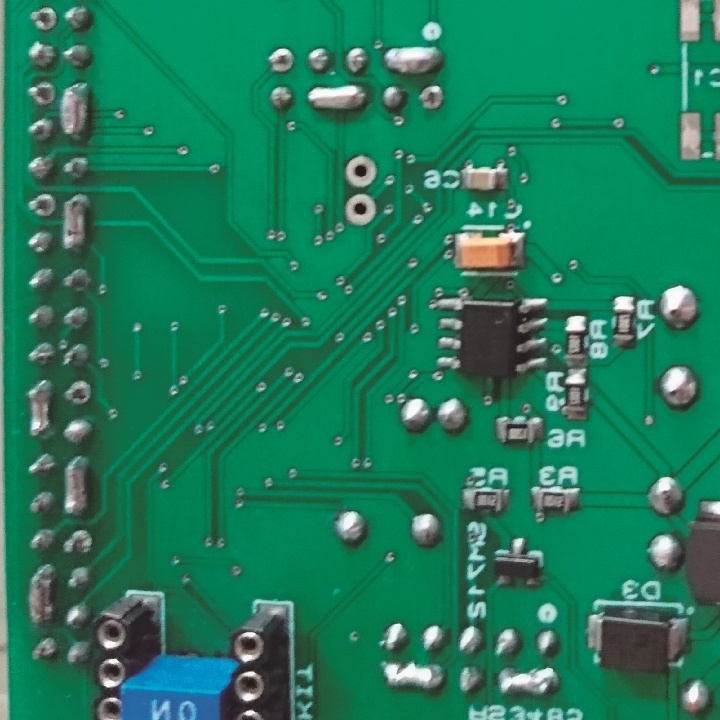F: (341, 152, 379, 189), (341, 192, 376, 227), (416, 82, 449, 115), (27, 5, 61, 34), (265, 44, 297, 74), (62, 529, 93, 558), (27, 80, 58, 109), (63, 379, 93, 408), (25, 192, 56, 220)
P: (24, 561, 60, 626), (56, 82, 95, 141), (496, 665, 561, 700), (381, 658, 446, 692), (58, 454, 93, 516), (381, 46, 444, 75), (305, 86, 370, 114), (25, 380, 54, 438), (61, 192, 87, 255)
